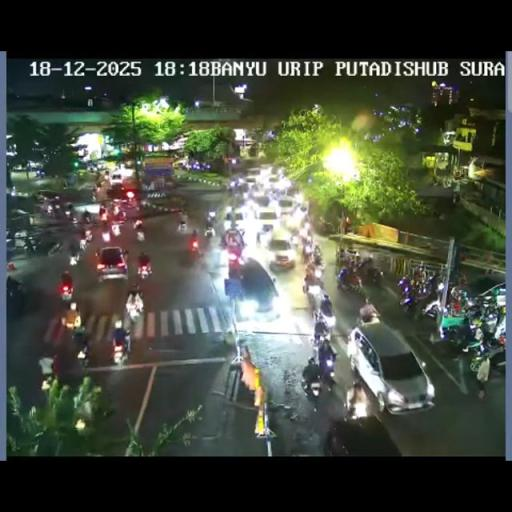Car: (348, 319, 434, 412), (94, 246, 129, 282), (266, 234, 296, 270), (256, 206, 279, 230), (278, 194, 296, 214), (251, 184, 269, 203), (230, 210, 248, 228), (246, 168, 262, 186), (266, 175, 280, 192), (110, 172, 124, 186), (172, 158, 187, 168)
Motorcycle: (54, 283, 144, 368), (90, 188, 144, 242), (470, 335, 506, 393), (398, 268, 438, 314), (442, 316, 480, 354), (301, 367, 324, 411), (316, 340, 338, 382), (476, 306, 502, 338), (336, 266, 363, 294), (358, 261, 384, 286), (111, 332, 131, 364), (125, 290, 144, 322), (303, 270, 325, 296), (63, 302, 81, 330), (313, 317, 330, 346), (449, 284, 470, 306), (450, 266, 468, 288), (358, 309, 380, 327), (77, 338, 91, 366), (227, 259, 244, 282), (188, 235, 203, 260), (38, 355, 54, 378), (137, 256, 152, 279), (317, 216, 336, 234), (69, 243, 84, 265), (59, 279, 73, 302), (339, 248, 354, 268), (47, 239, 64, 256), (245, 198, 259, 218), (312, 244, 324, 267), (24, 236, 38, 254), (301, 240, 313, 260), (298, 223, 310, 243), (78, 234, 90, 252), (101, 224, 112, 242), (51, 202, 63, 218), (6, 243, 16, 262), (110, 219, 121, 236), (98, 204, 108, 222), (135, 227, 146, 242), (63, 206, 74, 221), (343, 216, 352, 234), (206, 210, 216, 226), (204, 224, 215, 238), (177, 216, 187, 231), (111, 203, 121, 217), (81, 210, 91, 223), (118, 208, 128, 220), (34, 168, 45, 178), (95, 178, 104, 190), (237, 225, 245, 238), (6, 186, 16, 196), (121, 248, 129, 260), (87, 164, 97, 173), (92, 188, 98, 202), (256, 230, 262, 244), (228, 182, 234, 194)
